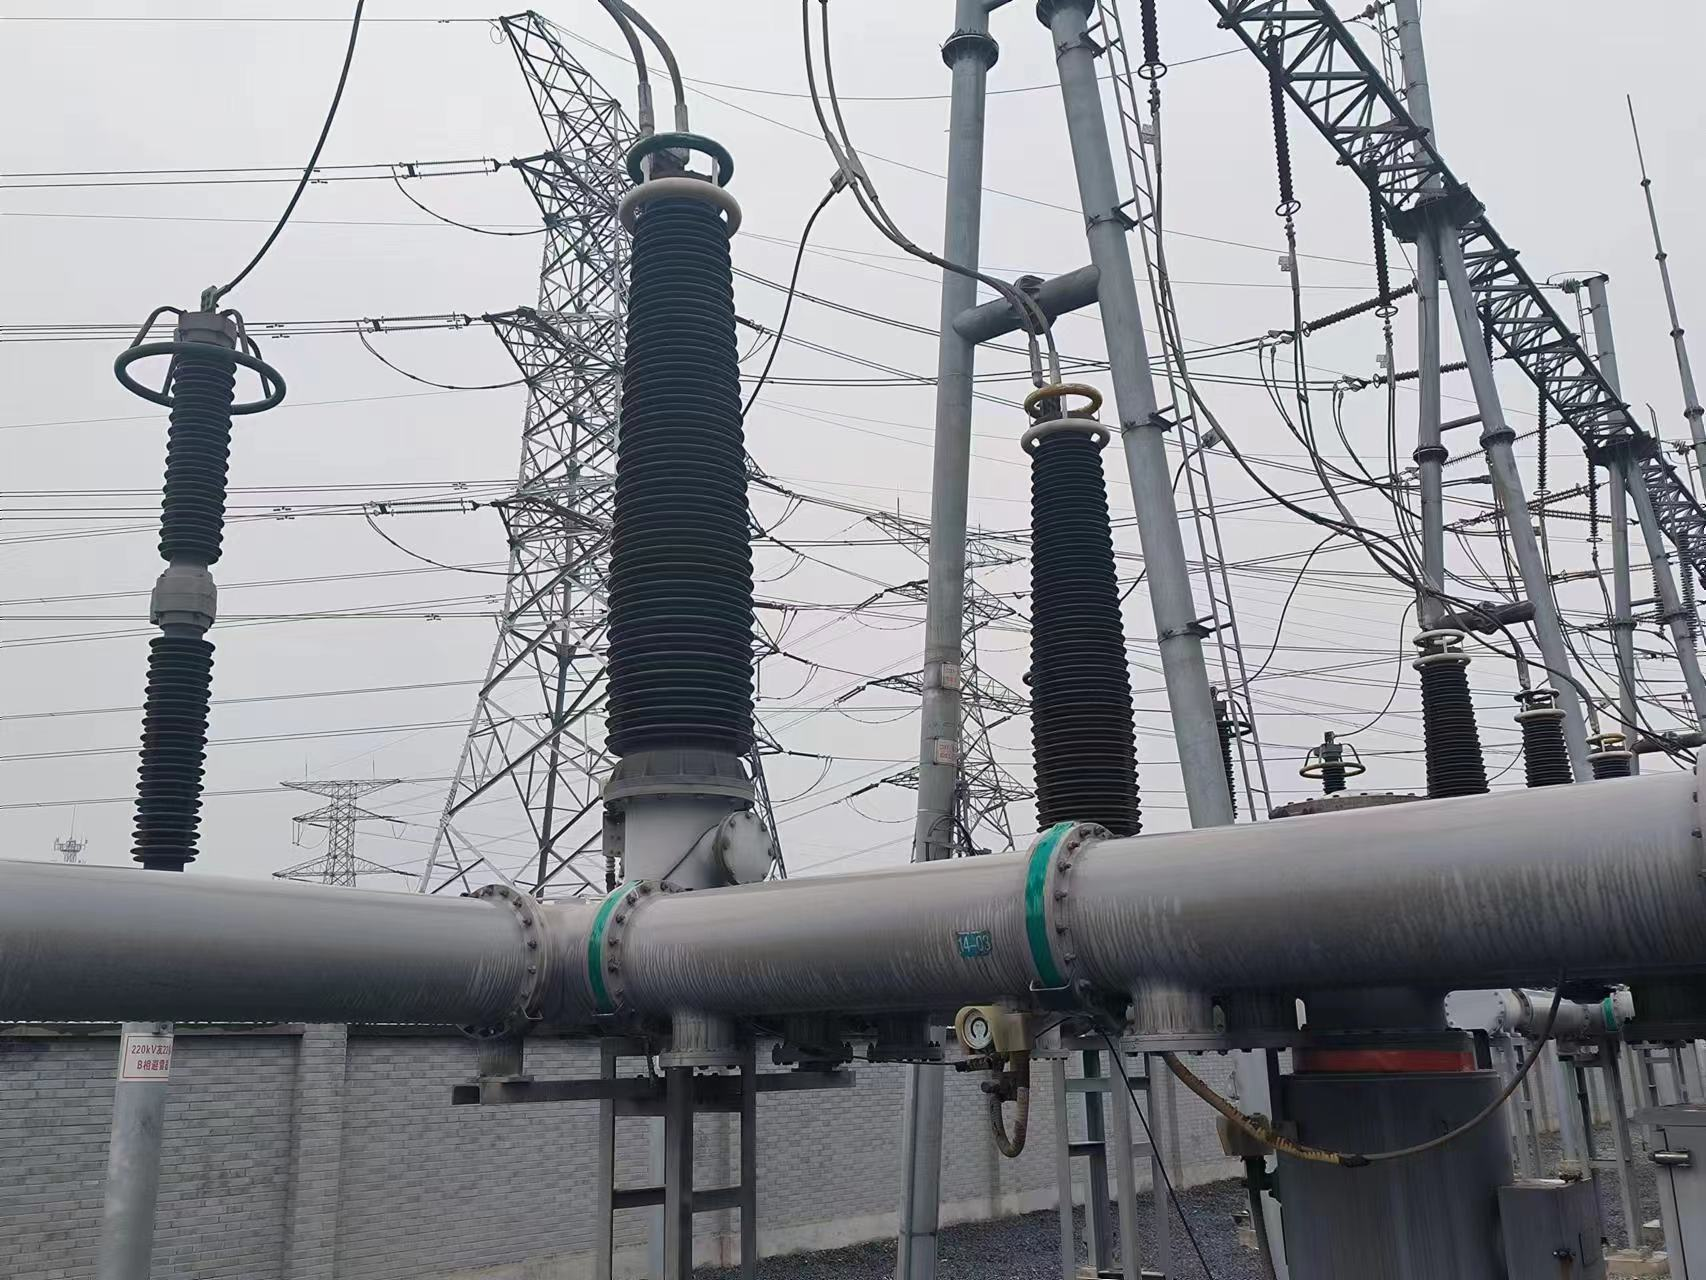Arrester: (113, 305, 288, 862)
Voltage transformer: (605, 130, 756, 754), (1020, 383, 1143, 827)
